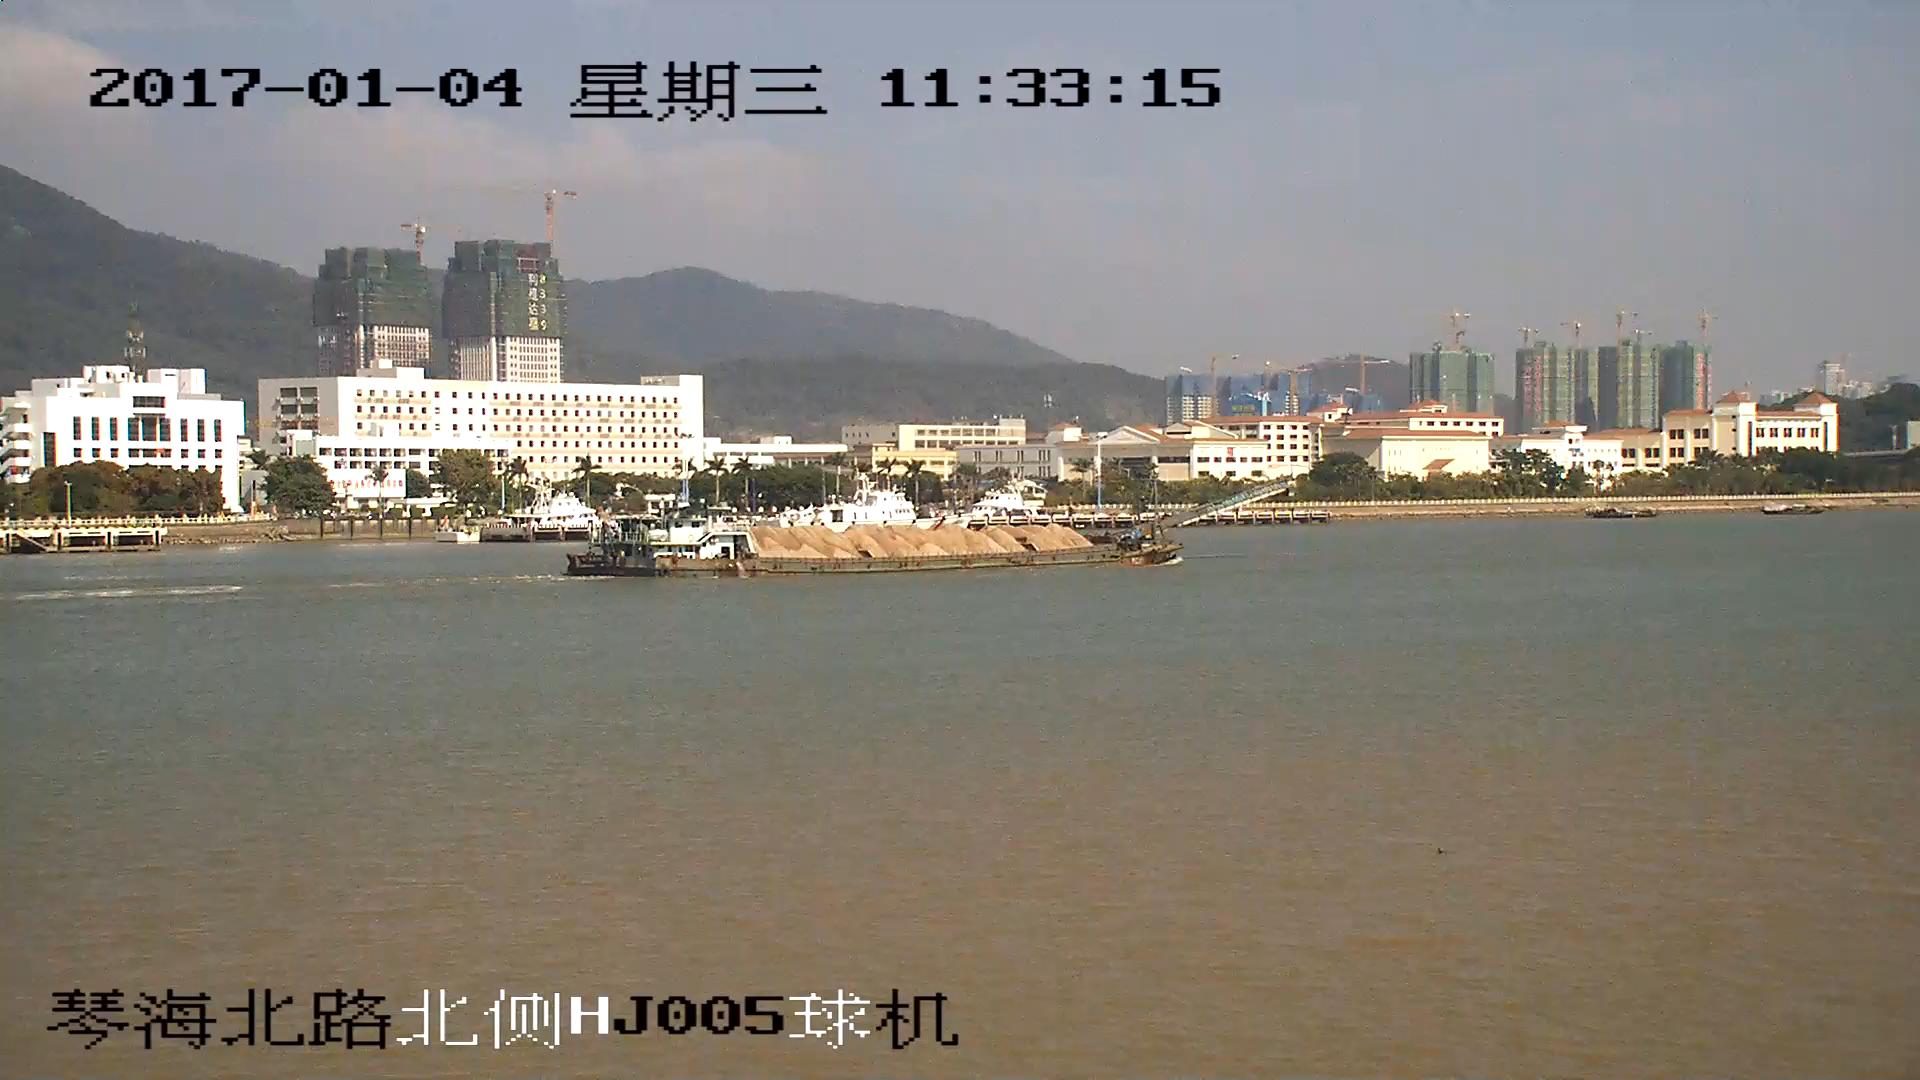ore carrier: (572, 480, 1288, 578)
